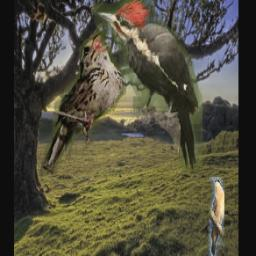Cuckoo: (209, 178, 224, 256)
Sparrow: (40, 31, 126, 178)
Woodpecker: (94, 0, 206, 173)
